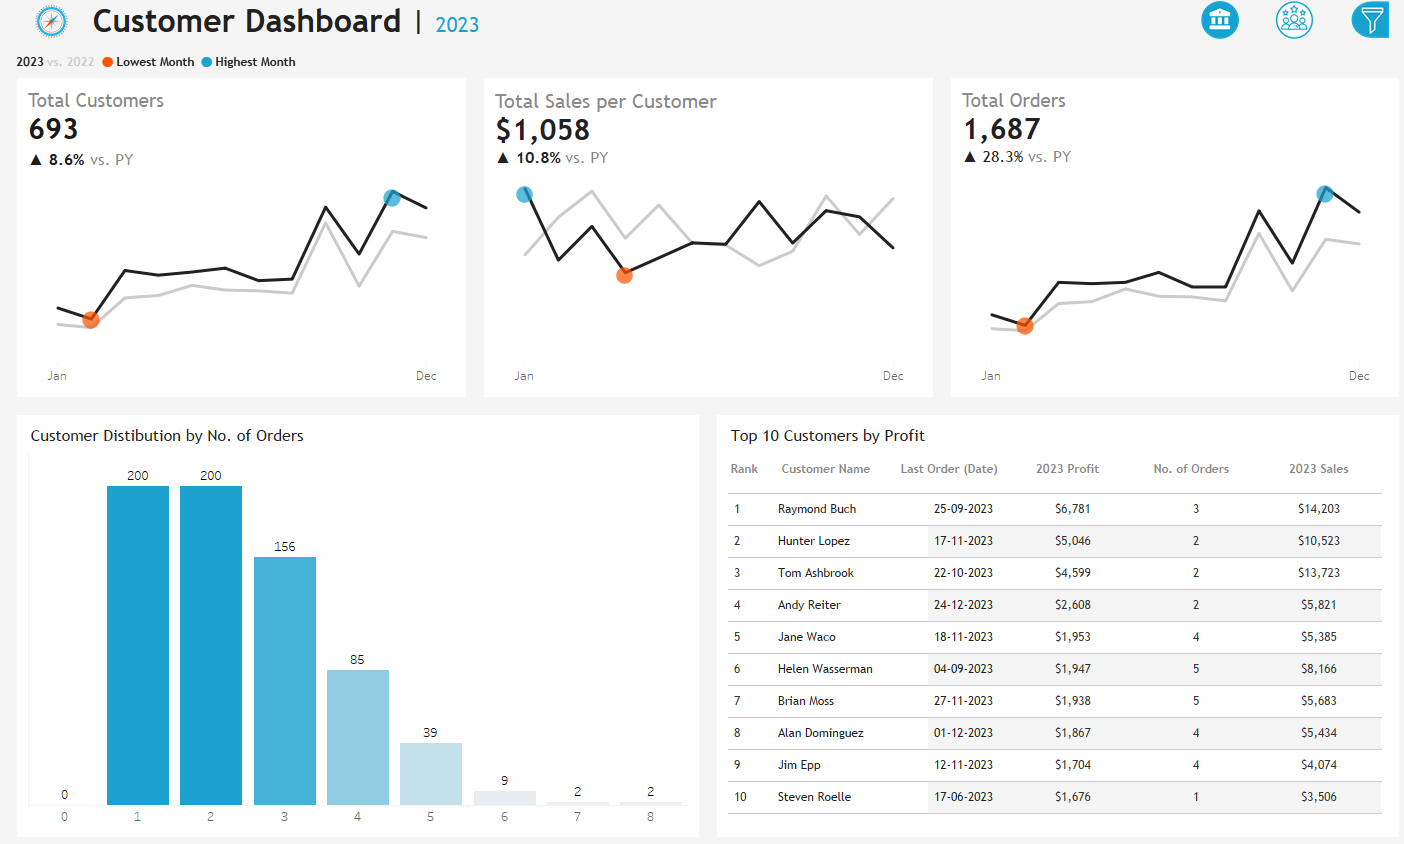

What the dashboard file says about the page in this screenshot:
{"tool":"tableau","page":{"name":"Customer Dashboard","canvas":[1400,850],"ordinal":0},"visuals":[{"type":"dashboard-object","box":[1173,0,76,47]},{"type":"dashboard-object","box":[1249,0,75,47]},{"type":"dashboard-object","box":[1324,0,75,47]},{"type":"image","param":"Image/Icon - Logo.png","box":[8,8,70,34]},{"type":"text","box":[78,8,1083,34]},{"type":"worksheet","title":"Legend KPI","mark":"Automatic","box":[0,50,1400,32]},{"type":"text","box":[1163,72,227,36]},{"type":"worksheet","title":"KPI Customers","mark":"Automatic","rows":["Min./Max. Quantity (copy)_835136285121658914"],"cols":["Order Date"],"box":[0,82,467,328]},{"type":"worksheet","title":"KPI Sales Per Customers","mark":"Automatic","rows":["Min./Max. Customer (copy)_835136285121732643"],"cols":["Order Date"],"box":[467,82,467,328]},{"type":"worksheet","title":"KPI Orders","mark":"Automatic","rows":["Calculation_835136285264744511"],"cols":["Order Date"],"box":[934,82,466,328]},{"type":"parameter","param":"[Parameters].[Parameter 1]","box":[1163,108,227,62]},{"type":"blank","box":[1163,170,227,35]},{"type":"text","box":[1163,205,227,32]},{"type":"filter","title":"KPI Customers","param":"[federated.18r58u51jcdbuf13nqnum04pygnj].[none:Category:nk]","box":[1163,237,227,62]},{"type":"filter","title":"KPI Customers","param":"[federated.18r58u51jcdbuf13nqnum04pygnj].[none:Sub-Category:nk]","box":[1163,299,227,62]},{"type":"blank","box":[1163,361,227,88]},{"type":"text","box":[16,426,668,27]},{"type":"text","box":[716,426,668,27]},{"type":"text","box":[1163,449,227,32]},{"type":"worksheet","title":"Customer Distribution","mark":"Bar","rows":["CY Quantity (copy)_835136285117775900"],"cols":["Calculation_835136285129117735"],"box":[16,453,668,381]},{"type":"text","box":[716,453,51,40]},{"type":"text","box":[767,453,119,40]},{"type":"text","box":[886,453,135,40]},{"type":"text","box":[1021,453,118,40]},{"type":"text","box":[1139,453,135,40]},{"type":"text","box":[1274,453,110,40]},{"type":"filter","title":"KPI Customers","param":"[federated.18r58u51jcdbuf13nqnum04pygnj].[none:Region:nk]","box":[1163,481,227,66]},{"type":"worksheet","title":"Top Customers","mark":"Automatic","rows":["Calculation_835136285484851267","Customer Name","Order Date"],"box":[716,493,668,337]},{"type":"filter","title":"KPI Customers","param":"[federated.18r58u51jcdbuf13nqnum04pygnj].[none:State:nk]","box":[1163,547,227,62]},{"type":"filter","title":"KPI Customers","param":"[federated.18r58u51jcdbuf13nqnum04pygnj].[none:City:nk]","box":[1163,609,227,62]}]}

Visuals, with their boxes in screenshot pixels (x1, y1, x2, y2), scaled from the page's 1400x850 canvas onto the 1404x844 screenshot:
dashboard-object: 1176,0,1253,47
dashboard-object: 1253,0,1328,47
dashboard-object: 1328,0,1403,47
image: 8,8,78,42
text: 78,8,1164,42
"Legend KPI" worksheet: 0,50,1403,81
text: 1166,71,1394,107
"KPI Customers" worksheet: 0,81,468,407
"KPI Sales Per Customers" worksheet: 468,81,937,407
"KPI Orders" worksheet: 937,81,1403,407
parameter: 1166,107,1394,169
blank: 1166,169,1394,204
text: 1166,204,1394,235
"KPI Customers" filter: 1166,235,1394,297
"KPI Customers" filter: 1166,297,1394,358
blank: 1166,358,1394,446
text: 16,423,686,450
text: 718,423,1388,450
text: 1166,446,1394,478
"Customer Distribution" worksheet (Bar marks): 16,450,686,828
text: 718,450,769,490
text: 769,450,889,490
text: 889,450,1024,490
text: 1024,450,1142,490
text: 1142,450,1278,490
text: 1278,450,1388,490
"KPI Customers" filter: 1166,478,1394,543
"Top Customers" worksheet: 718,490,1388,824
"KPI Customers" filter: 1166,543,1394,605
"KPI Customers" filter: 1166,605,1394,666
